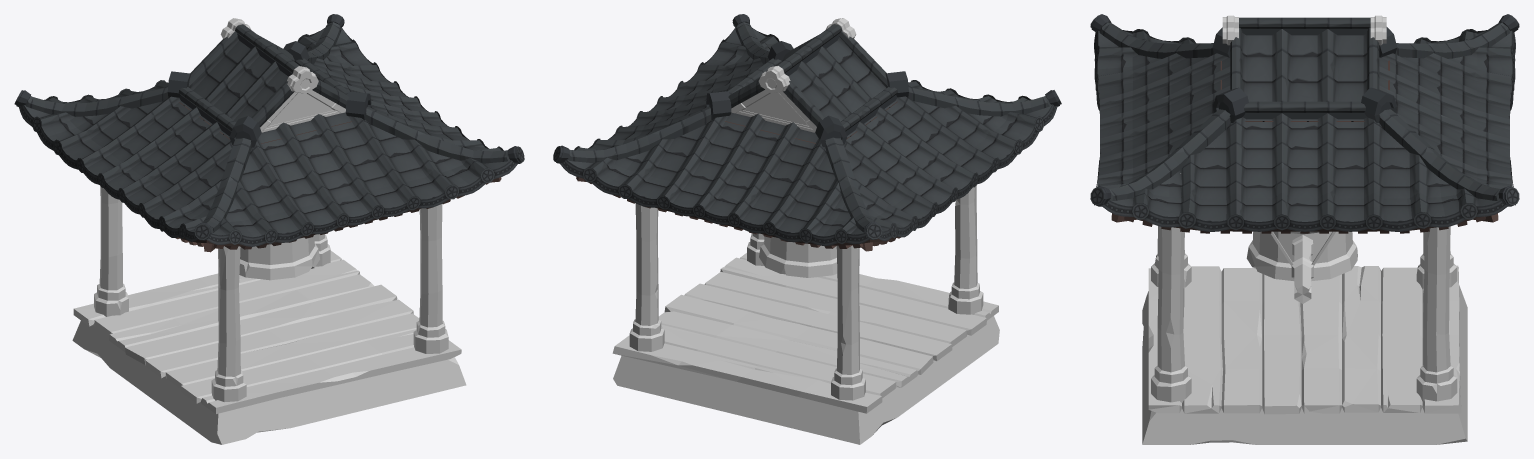
Rendered from SM_Bld_Shrine_02.fbx.
3 renders of one model, left to right at view 1: azimuth 30°, elevation 25°; view 2: azimuth 150°, elevation 25°; view 3: azimuth 270°, elevation 25°, orthographic. The views are drawn at different scales.
Parts seen in each view (by area): view 1: SM_Bld_Shrine_02; view 2: SM_Bld_Shrine_02; view 3: SM_Bld_Shrine_02.
Boxes of the visible parts, x1,y1,x2,y2 form: SM_Bld_Shrine_02: (14, 14, 524, 444); SM_Bld_Shrine_02: (553, 14, 1061, 444); SM_Bld_Shrine_02: (1090, 14, 1519, 444).
Size of the model in its own units: 616 by 572 by 617.
